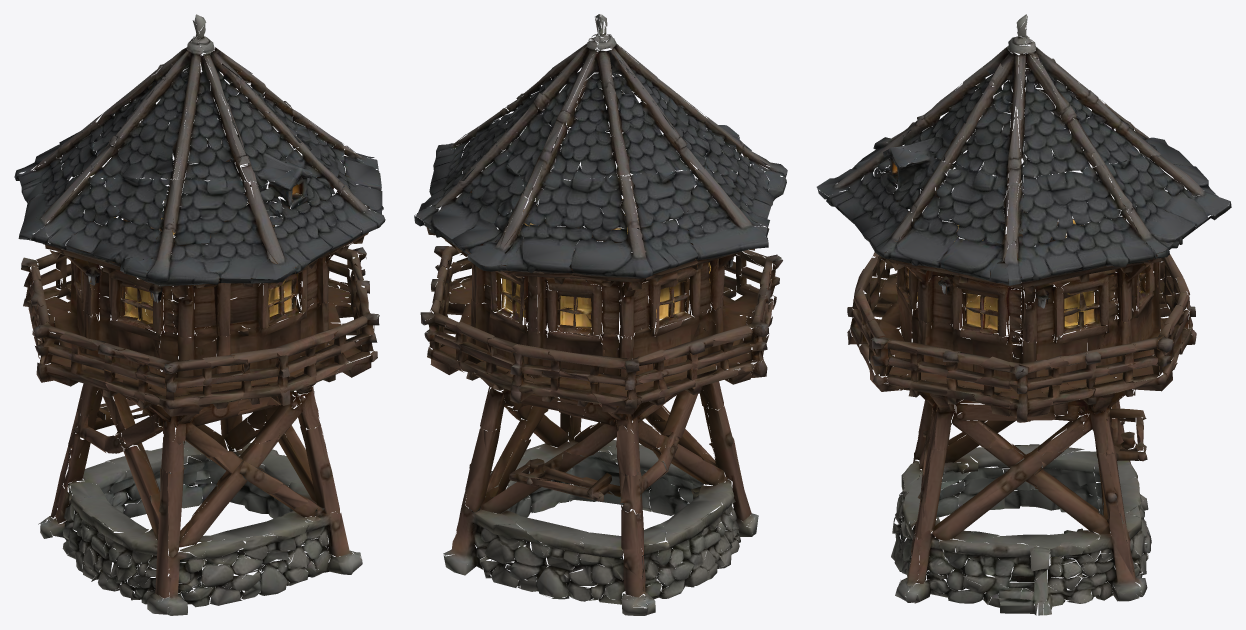
The model's file is alpine_watch_lookout.glb.
3 renders of one model, left to right at view 1: azimuth 30°, elevation 25°; view 2: azimuth 150°, elevation 25°; view 3: azimuth 270°, elevation 25°, orthographic.
Parts seen in each view (by area): view 1: tripo_node_b4cb6a0e-8f01-494c-bc46-16be3122e52c; view 2: tripo_node_b4cb6a0e-8f01-494c-bc46-16be3122e52c; view 3: tripo_node_b4cb6a0e-8f01-494c-bc46-16be3122e52c.
Boxes of the visible parts, left/top/right/bottom form: tripo_node_b4cb6a0e-8f01-494c-bc46-16be3122e52c: left=14, top=14, right=385, bottom=615; tripo_node_b4cb6a0e-8f01-494c-bc46-16be3122e52c: left=414, top=14, right=787, bottom=615; tripo_node_b4cb6a0e-8f01-494c-bc46-16be3122e52c: left=816, top=14, right=1231, bottom=615.
Size of the model in its own units: 5.06 by 7.53 by 5.25.
3 materials, 3 textured.
